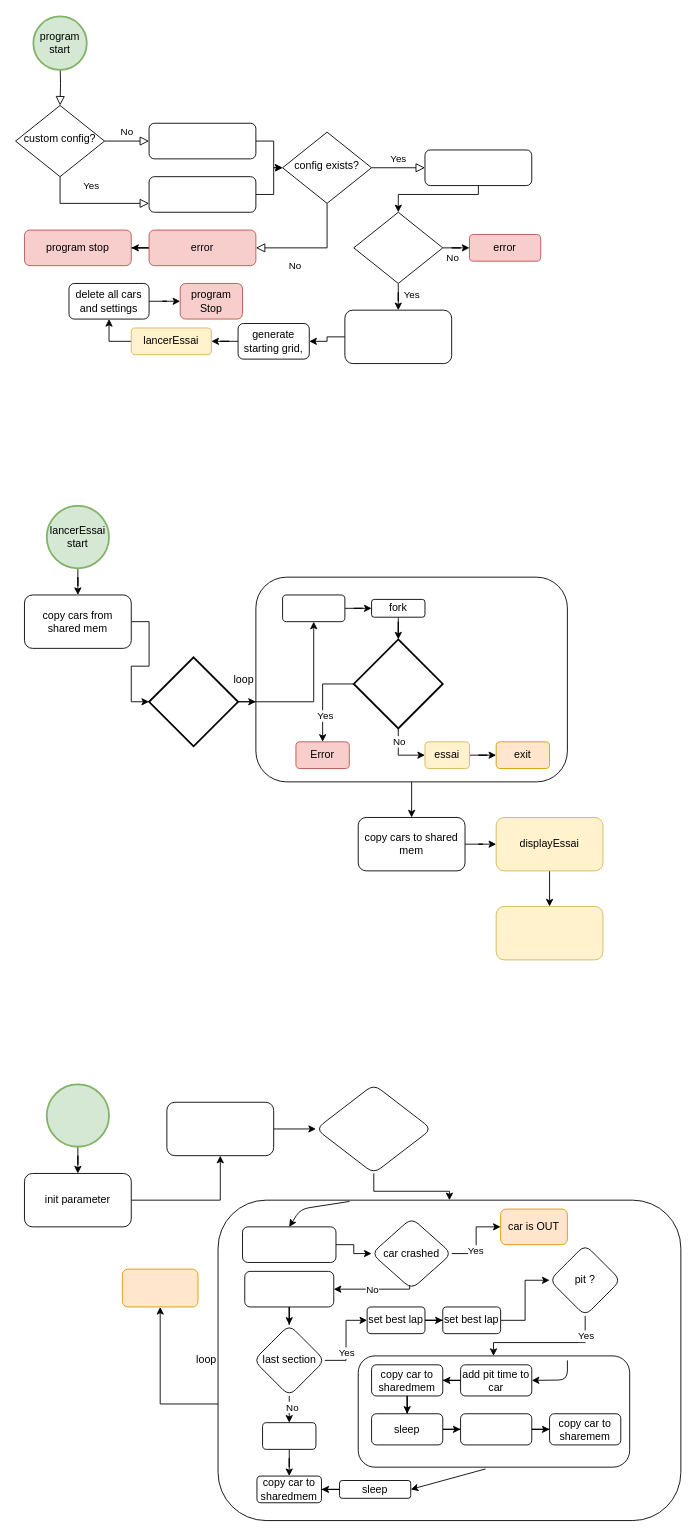
The diagram is 697 pixels wide and 1536 high, and some of its shapes have lost their labels. Here are the shapes that lost their labels. From the top down, the centre of each, then its label:
At (x=202, y=140): "use default config".
At (x=478, y=167): "parse config".
At (x=202, y=194): "use custom config".
At (x=398, y=247): "config valid".
At (x=398, y=336): "init : counter , logger, random seed, shared mem , cars get all settings data".
At (x=313, y=608): "reset the [i] car".
At (x=193, y=701): "loop 20 time".
At (x=397, y=683): "if pid < 0".
At (x=549, y=933): "pause course".
At (x=77, y=1115): "essai start".
At (x=220, y=1128): "copy car from sharedMem".
At (x=373, y=1128): "while car has time".
At (x=289, y=1244): "get random section time".
At (x=159, y=1287): "set car as done copy car to sharedmem".
At (x=289, y=1288): "check best time".
At (x=289, y=1435): "continue".
At (x=496, y=1429): "set pit =0".
